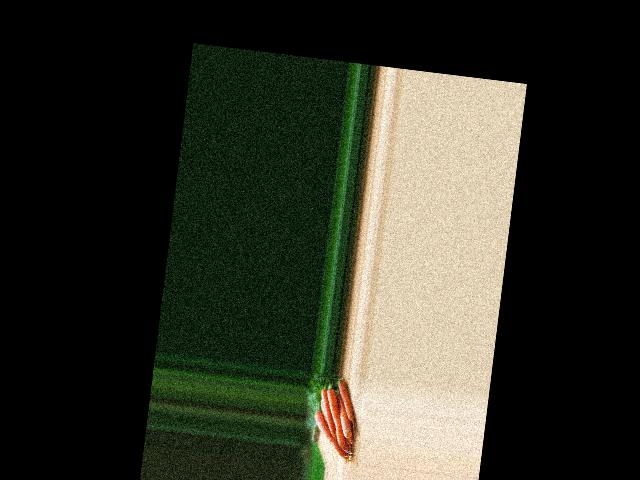carrot: (334, 378, 365, 426)
